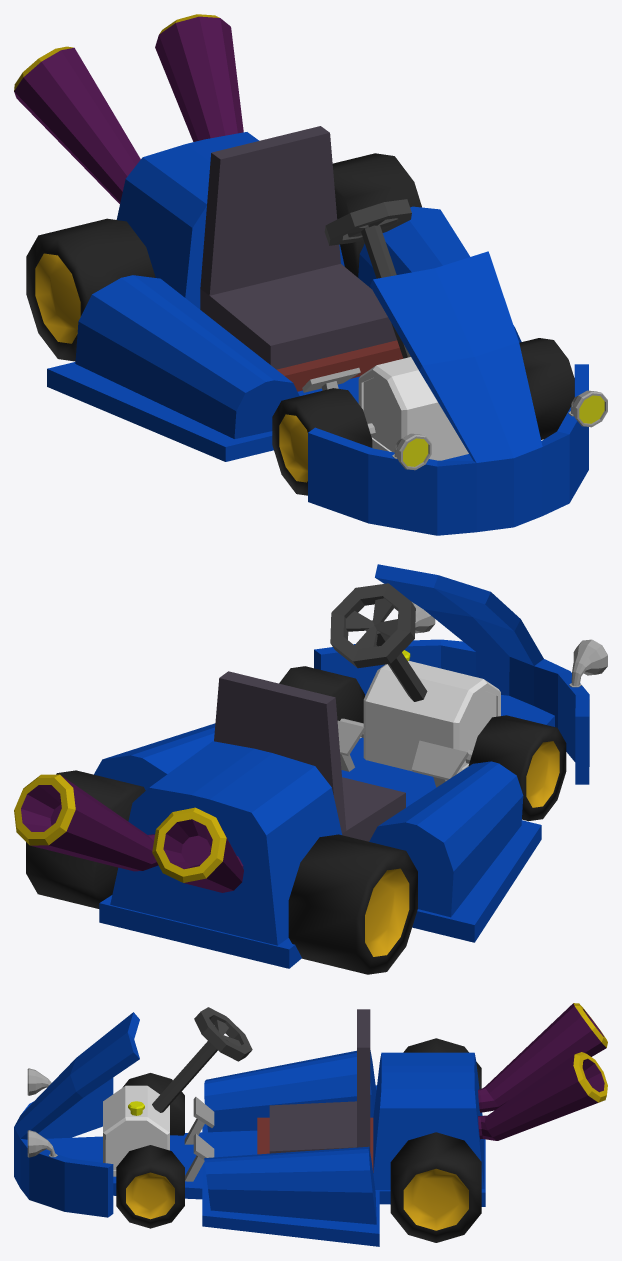
The model's file is kart.glb.
The picture shows the model from 3 angles, top to bottom: view 1: azimuth 30°, elevation 25°; view 2: azimuth 150°, elevation 25°; view 3: azimuth 270°, elevation 25°; orthographic projection. The views are drawn at different scales.
Visible parts, largest first — view 1: body, wheel_rr, wheel_fr, wheel_rl, wheel_fl; view 2: body, wheel_rr, wheel_fr, wheel_rl, wheel_fl; view 3: body, wheel_rl, wheel_fl, wheel_fr, wheel_rr.
Boxes of the visible parts, x1,y1,x2,y2 form: body: (14, 14, 607, 535); wheel_rr: (26, 218, 155, 361); wheel_fr: (272, 388, 372, 495); wheel_rl: (332, 153, 421, 277); wheel_fl: (519, 338, 574, 439); body: (14, 564, 607, 968); wheel_rr: (288, 834, 417, 974); wheel_fr: (468, 715, 566, 821); wheel_rl: (26, 770, 145, 908); wheel_fl: (279, 666, 364, 723); body: (14, 1003, 607, 1246); wheel_rl: (390, 1132, 481, 1242); wheel_fl: (116, 1145, 184, 1228); wheel_fr: (122, 1073, 184, 1135); wheel_rr: (403, 1038, 481, 1089).
Size of the model in its own units: 1.31 by 0.6966 by 2.2.
